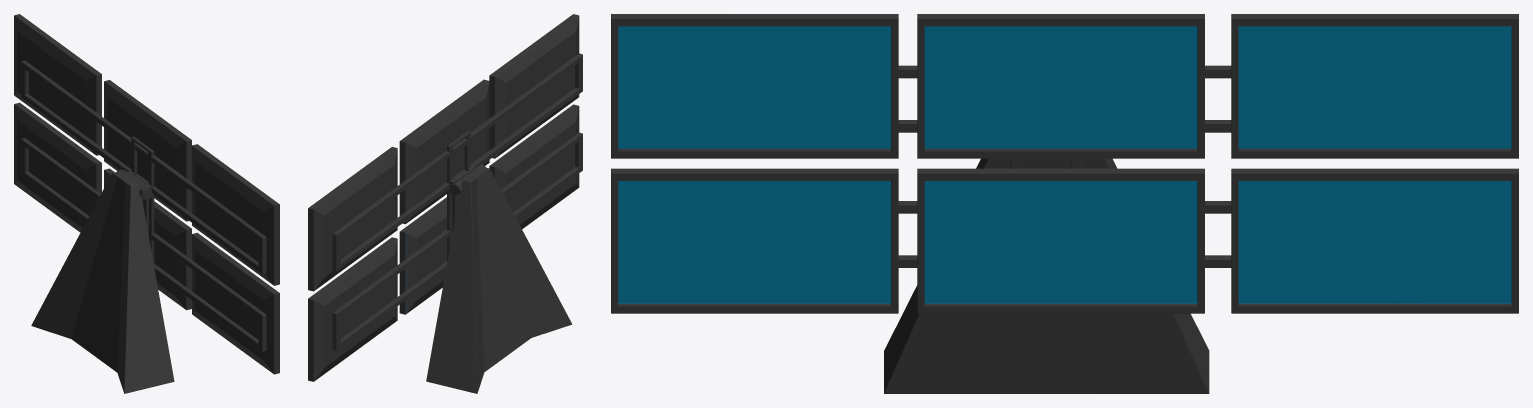
Rendered from SM_Display_04.fbx.
The picture shows the model from 3 angles, left to right: view 1: azimuth 30°, elevation 25°; view 2: azimuth 150°, elevation 25°; view 3: azimuth 270°, elevation 25°; orthographic projection. The views are drawn at different scales.
Visible parts, largest first — view 1: SM_Display_04; view 2: SM_Display_04; view 3: SM_Display_04.
Part boxes in pixels (box(x1,y1,x2,y2)): SM_Display_04: box(14, 14, 279, 393); SM_Display_04: box(308, 14, 582, 393); SM_Display_04: box(611, 14, 1518, 393).
Size of the model in its own units: 47.3 by 276 by 134.
Materials: 1 (1 with a texture image).
